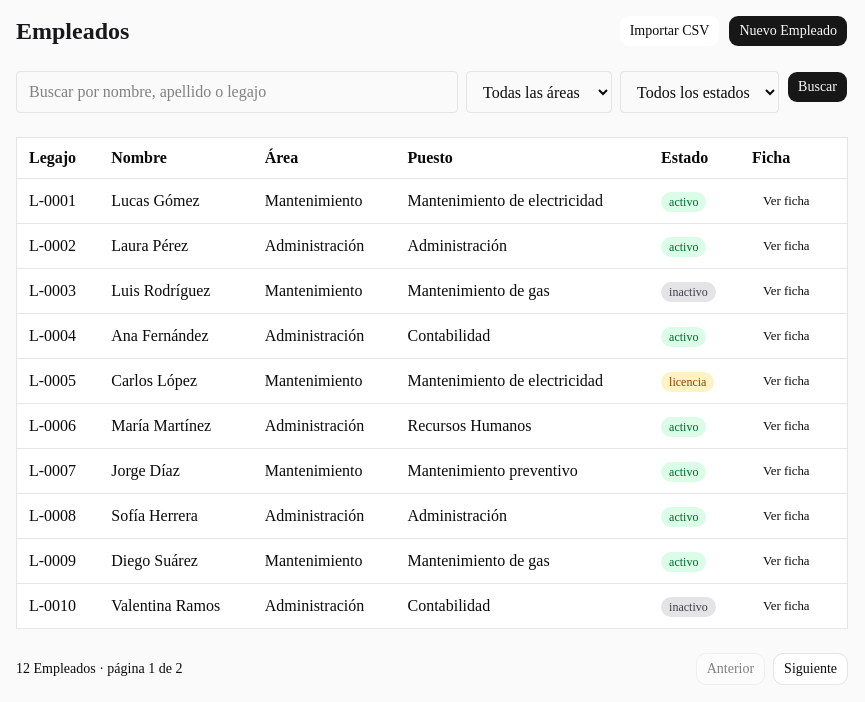
Test: EmpleadosPage › filtra por área
Expected: the text "Lucas Gómez" is shown, [99, 178, 253, 224]
Select "Administración" in the 1st dropdown showing "todas las áreas" at [539, 92], box [466, 71, 612, 113]
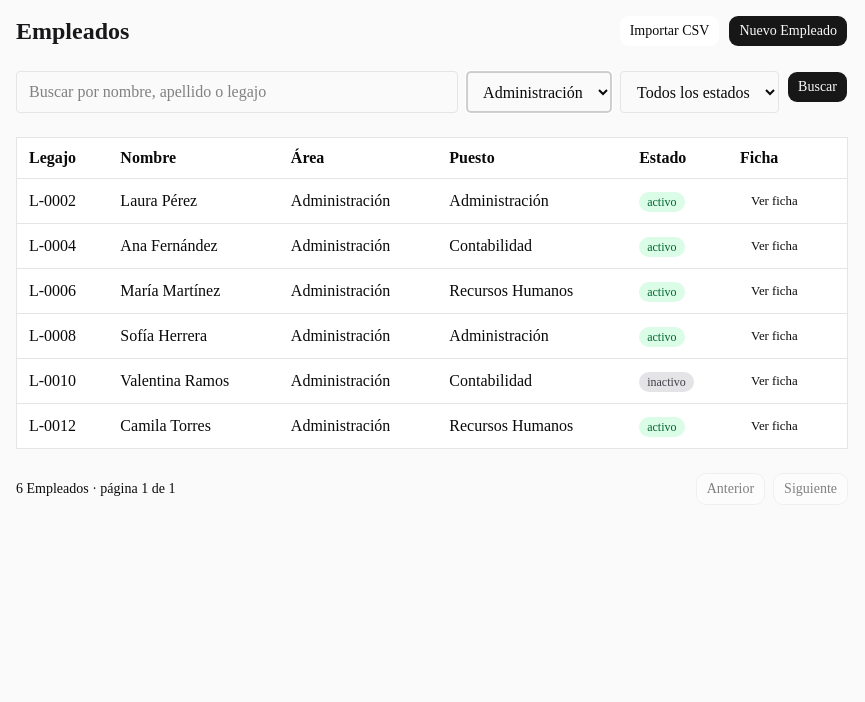
Expected: the text "Laura Pérez" is shown, [108, 178, 279, 224]
Now the text "6 Empleados · página 1 de 1" is shown, box [16, 479, 175, 499]
Now the text "Lucas Gómez" is gone
